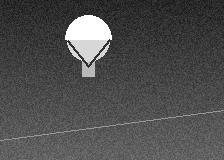helmet: (65, 15, 111, 66)
